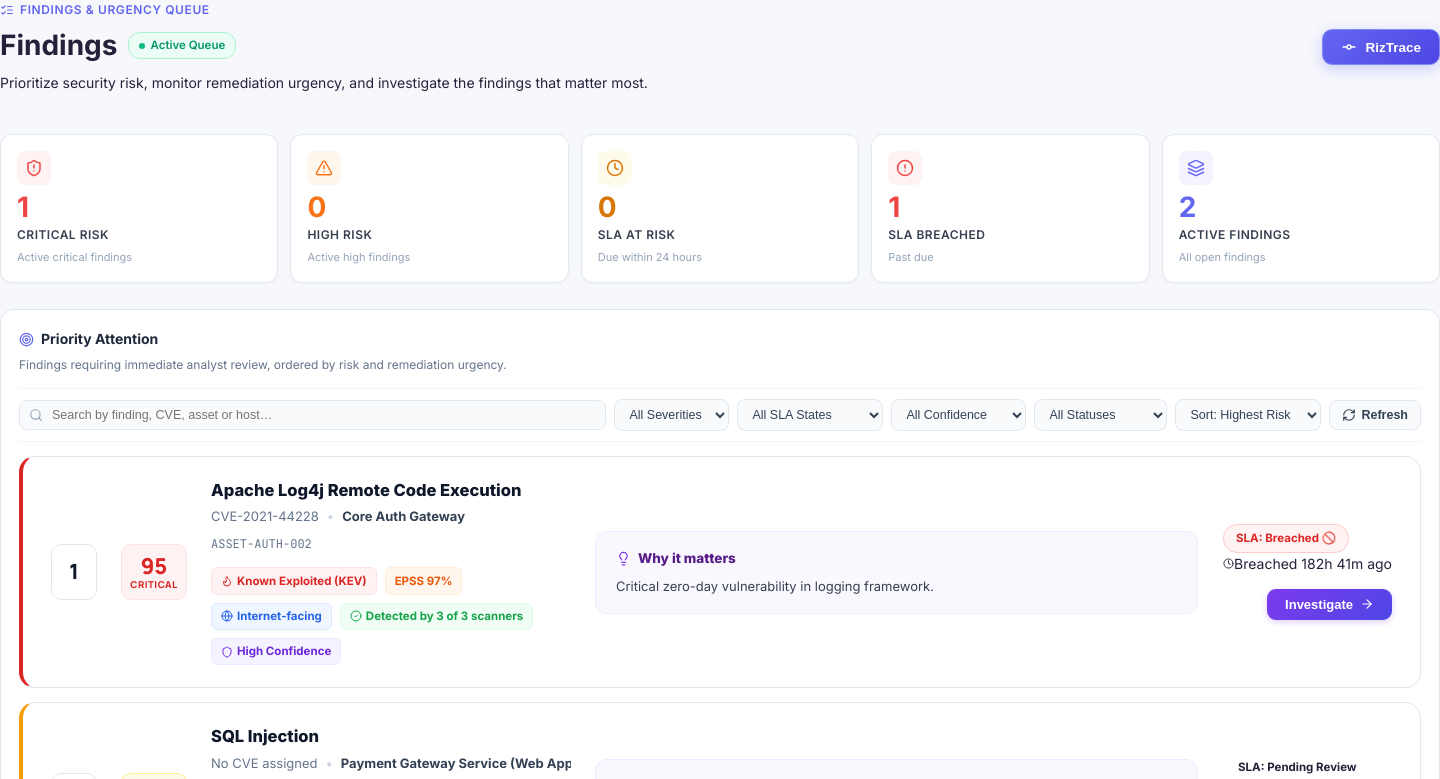
it: Findings SOC Queue Component & Utilities › FindingsQueue Page Integration › 9. filters findings by confidence
Expected: the heading "SQL Injection" is shown, [211,725,319,748]
Step 1. Select "Needs Review" in the dropdown named "Filter by confidence" → (959, 415), box [892,399,1026,431]
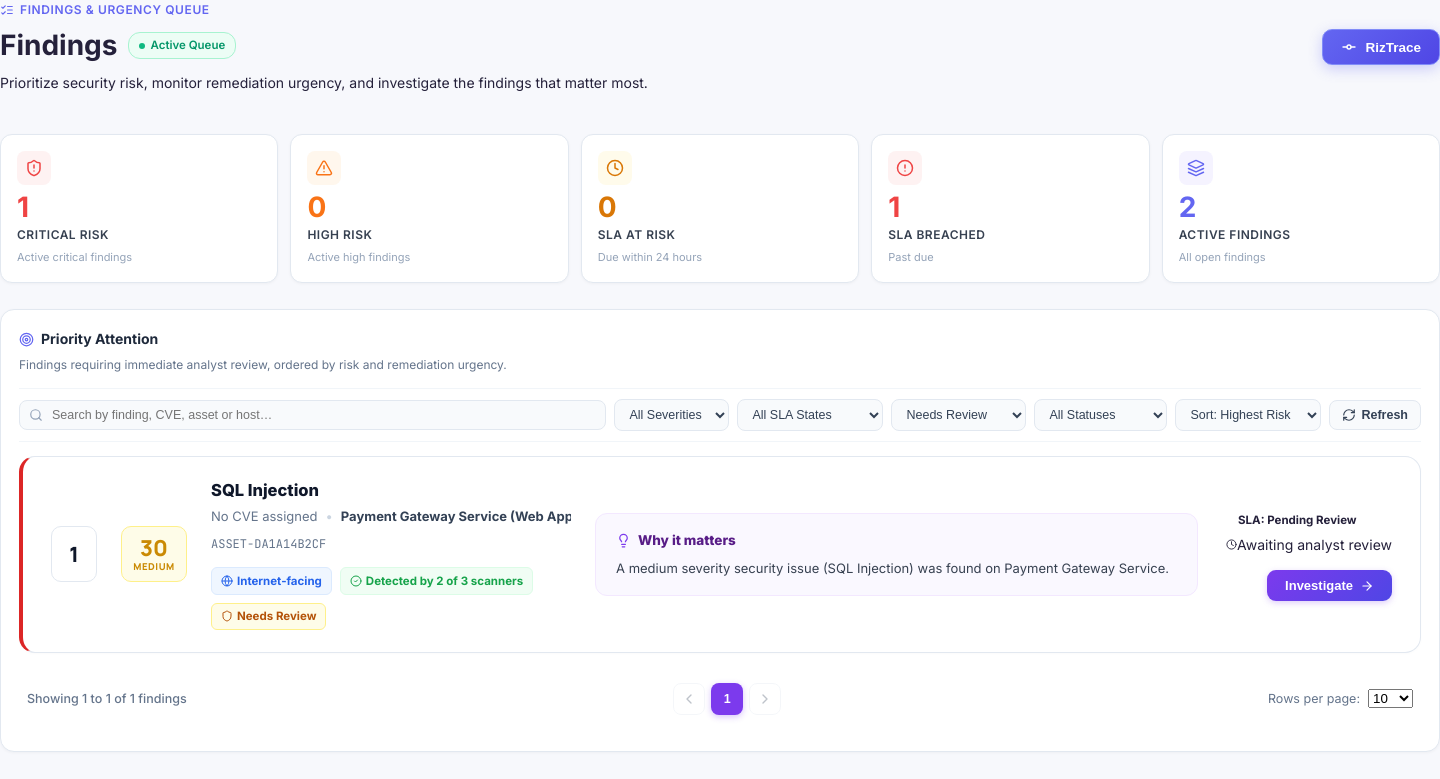
Expected: the heading "SQL Injection" is shown, [211,479,319,501]
Now the heading "Apache Log4j Remote Code Execution" is gone
